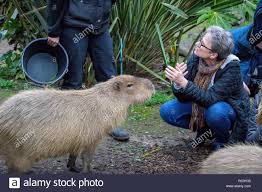capivara: (1, 75, 155, 177)
